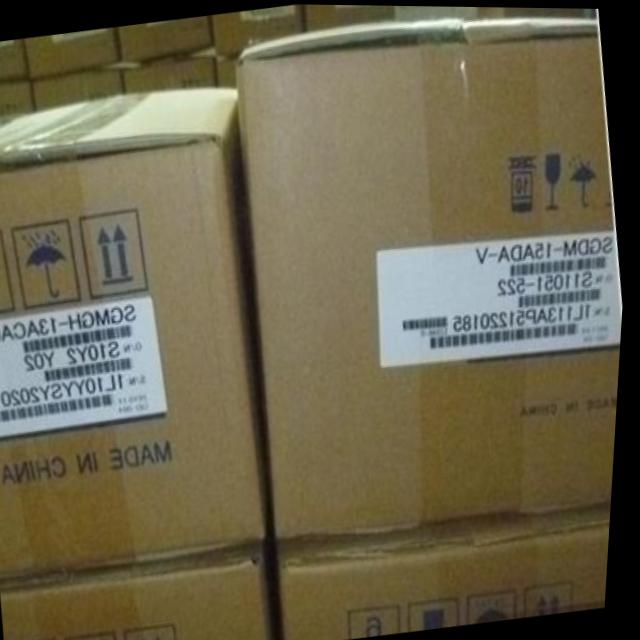box: (235, 17, 625, 536), (0, 87, 280, 579), (280, 507, 617, 640), (7, 539, 287, 640), (210, 3, 307, 56), (25, 27, 120, 76), (118, 14, 214, 61), (32, 63, 126, 106), (123, 51, 217, 90), (303, 4, 398, 32), (0, 81, 33, 122), (475, 6, 584, 18), (0, 39, 30, 82)
